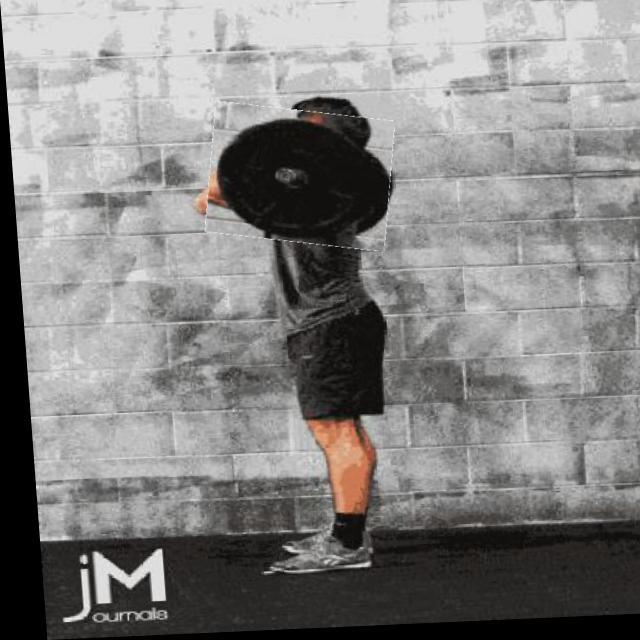barbell: (199, 104, 396, 255)
